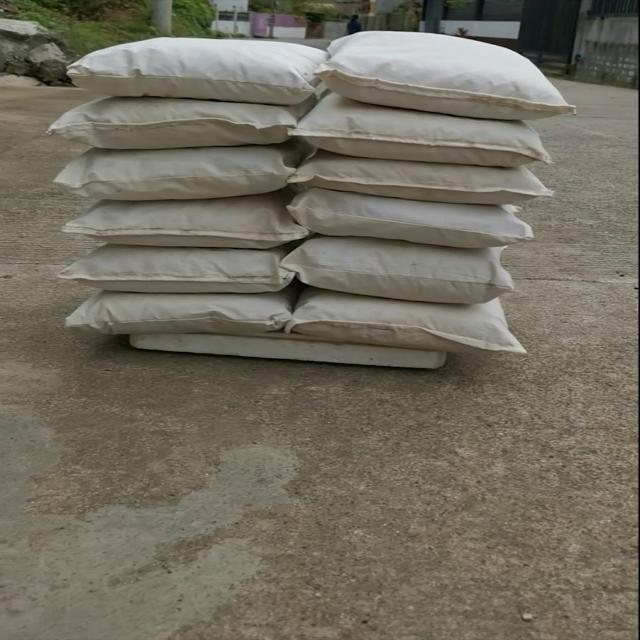Sack: (323, 20, 574, 128), (55, 24, 324, 110), (281, 288, 531, 374), (288, 233, 529, 320), (295, 97, 558, 175), (285, 183, 542, 258), (299, 145, 562, 217), (54, 135, 300, 211), (59, 267, 287, 349), (55, 90, 303, 162), (61, 188, 308, 255), (62, 239, 303, 304)
